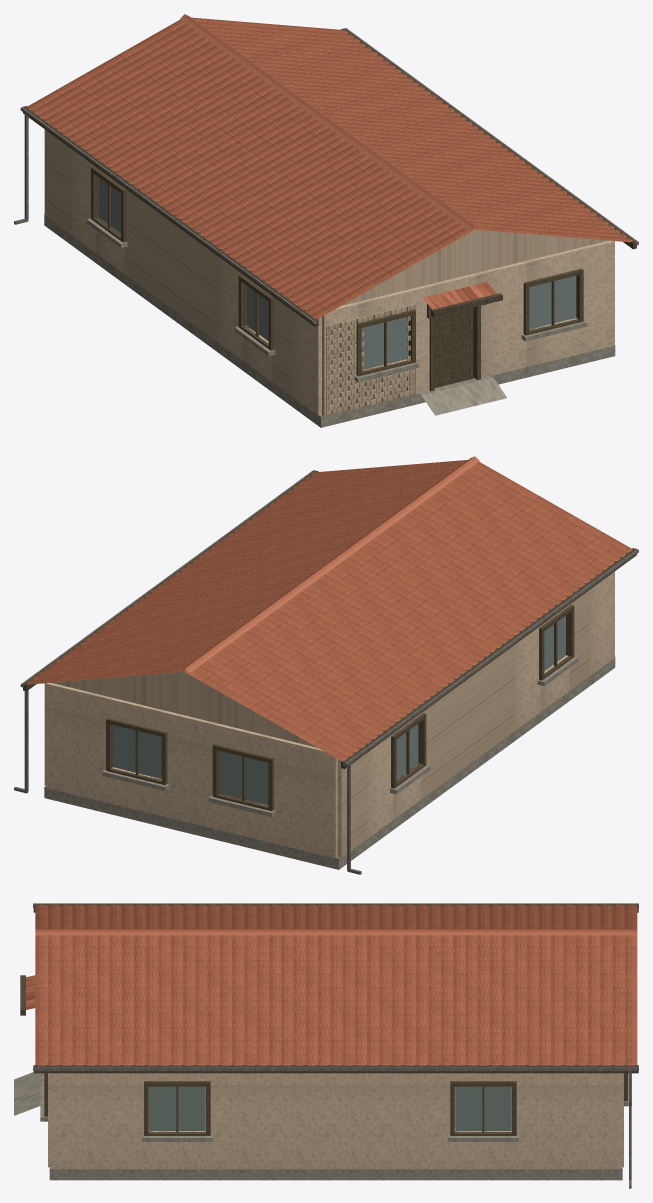
The picture shows the model from 3 angles, top to bottom: view 1: azimuth 30°, elevation 25°; view 2: azimuth 150°, elevation 25°; view 3: azimuth 270°, elevation 25°; orthographic projection. The views are drawn at different scales.
Visible parts, largest first — view 1: H02_TELHAS, H02_LATERAIS, H02_FACHADA, H02_OITOES, H02_FUNDACAO, H02_VIDROS_RECUADOS, H02_TIJOLOS_APARENTES, H02_CAIXILHOS, H02_CUMEEIRA, H02_PORTA_FOLHA, H02_BEIRAIS, H02_CALHA (+6 smaller); view 2: H02_TELHAS, H02_FUNDOS, H02_LATERAIS, H02_FUNDACAO, H02_OITOES, H02_VIDROS_RECUADOS, H02_CAIXILHOS, H02_CUMEEIRA, H02_BEIRAIS, H02_CALHA, H02_PEITORIS, H02_CONDUTOR_PLUVIAL (+1 smaller); view 3: H02_TELHAS, H02_LATERAIS, H02_FUNDACAO, H02_VIDROS_RECUADOS, H02_BEIRAIS, H02_CUMEEIRA, H02_CALHA, H02_CAIXILHOS, H02_PEITORIS, H02_RAMPA, H02_FACHADA, H02_FUNDOS.
Boxes of the visible parts, x1=… form: H02_TELHAS: x1=27, y1=17, x2=632, y2=318; H02_LATERAIS: x1=44, y1=129, x2=614, y2=415; H02_FACHADA: x1=322, y1=240, x2=613, y2=416; H02_OITOES: x1=341, y1=229, x2=607, y2=305; H02_FUNDACAO: x1=44, y1=214, x2=615, y2=427; H02_VIDROS_RECUADOS: x1=99, y1=177, x2=576, y2=369; H02_TIJOLOS_APARENTES: x1=326, y1=304, x2=415, y2=415; H02_CAIXILHOS: x1=91, y1=167, x2=583, y2=376; H02_CUMEEIRA: x1=180, y1=14, x2=479, y2=230; H02_PORTA_FOLHA: x1=434, y1=307, x2=473, y2=387; H02_BEIRAIS: x1=23, y1=28, x2=636, y2=326; H02_CALHA: x1=20, y1=28, x2=638, y2=324; H02_TELHAS: x1=27, y1=460, x2=631, y2=761; H02_FUNDOS: x1=46, y1=683, x2=337, y2=858; H02_LATERAIS: x1=44, y1=571, x2=614, y2=857; H02_FUNDACAO: x1=44, y1=656, x2=615, y2=869; H02_OITOES: x1=51, y1=672, x2=316, y2=747; H02_VIDROS_RECUADOS: x1=113, y1=616, x2=565, y2=804; H02_CAIXILHOS: x1=106, y1=605, x2=574, y2=811; H02_CUMEEIRA: x1=181, y1=456, x2=479, y2=672; H02_BEIRAIS: x1=23, y1=470, x2=636, y2=768; H02_CALHA: x1=20, y1=470, x2=638, y2=766; H02_PEITORIS: x1=102, y1=656, x2=578, y2=816; H02_CONDUTOR_PLUVIAL: x1=24, y1=690, x2=350, y2=870; H02_TELHAS: x1=35, y1=904, x2=637, y2=1065; H02_LATERAIS: x1=52, y1=1073, x2=619, y2=1169; H02_FUNDACAO: x1=49, y1=1087, x2=622, y2=1180; H02_VIDROS_RECUADOS: x1=149, y1=1086, x2=511, y2=1130; H02_BEIRAIS: x1=33, y1=904, x2=638, y2=1073; H02_CUMEEIRA: x1=35, y1=929, x2=636, y2=935; H02_CALHA: x1=33, y1=903, x2=638, y2=1070; H02_CAIXILHOS: x1=44, y1=1073, x2=627, y2=1135; H02_PEITORIS: x1=40, y1=1073, x2=631, y2=1141; H02_RAMPA: x1=14, y1=1072, x2=42, y2=1115; H02_FACHADA: x1=48, y1=1073, x2=52, y2=1167; H02_FUNDOS: x1=619, y1=1073, x2=623, y2=1167.
Size of the model in its own units: 9.1 by 4.28 by 13.73.
Materials: 9 (8 with a texture image).
